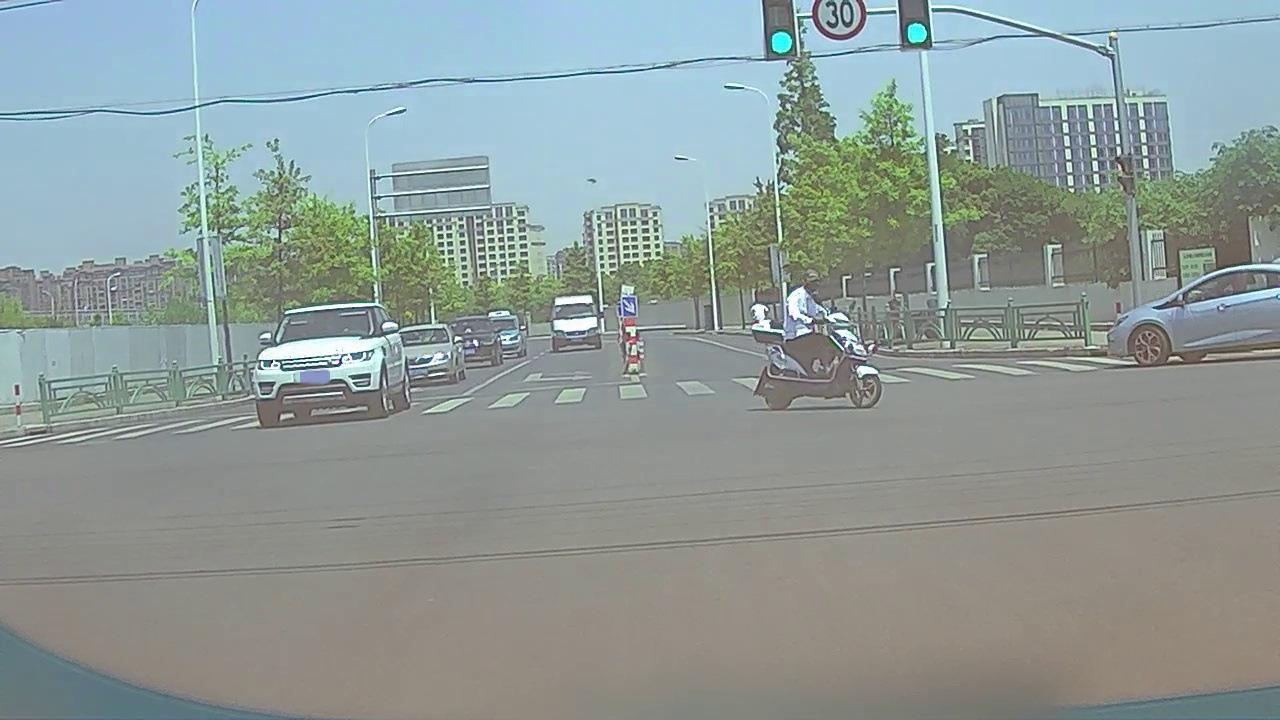traffic_light: (766, 2, 799, 61), (900, 3, 931, 51)
